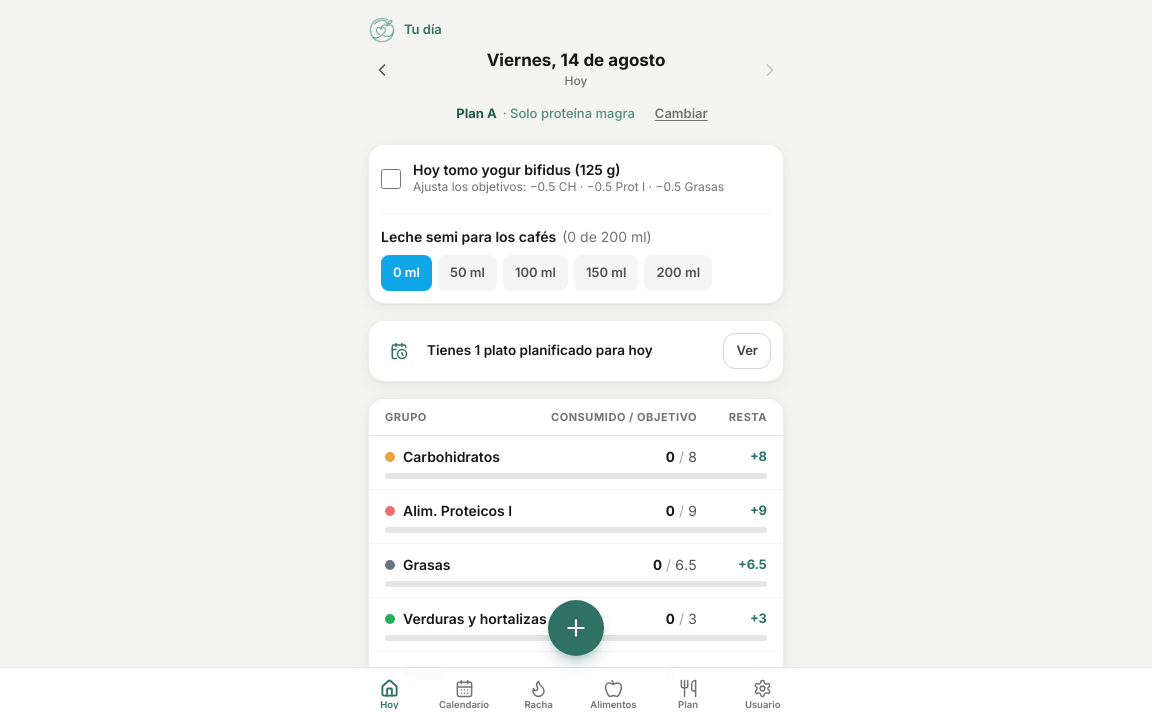
Test: TAREA 2 — calendario mensual de menús › CRITERIO 6 — en modo agenda lo planificado no entra en el seguimiento
Check: the text "Arroz previsto" is not shown
Check: the text "Tienes 1 plato planificado para hoy" is shown, box [427,342,653,358]
Step 1. Click the button "Ver" → (747, 350), box [723,332,771,368]
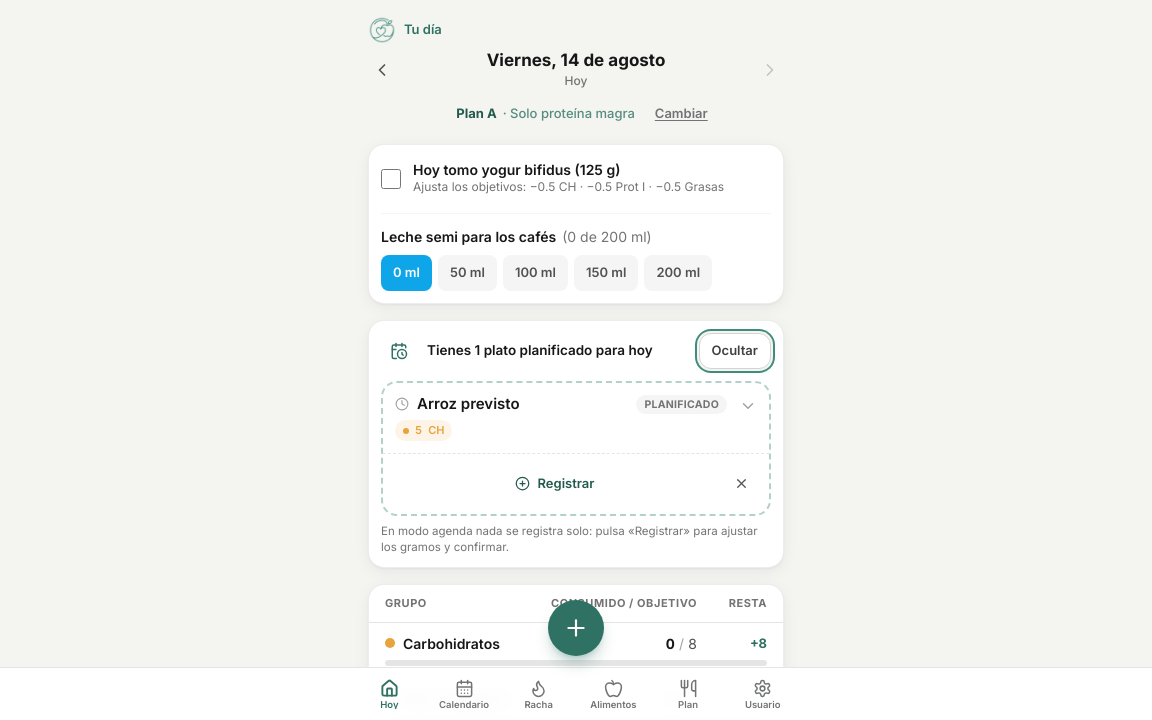
Check: the heading "Arroz previsto" is shown, box [417,394,520,413]
Check: the button with aria-label "Registrar Arroz previsto" is shown, box [391,462,718,506]
